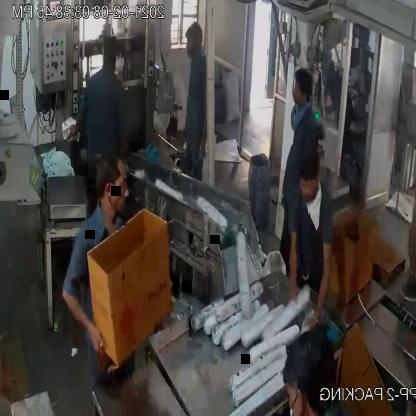no_glove: (62, 276, 113, 370), (312, 218, 334, 326), (284, 204, 305, 313)
